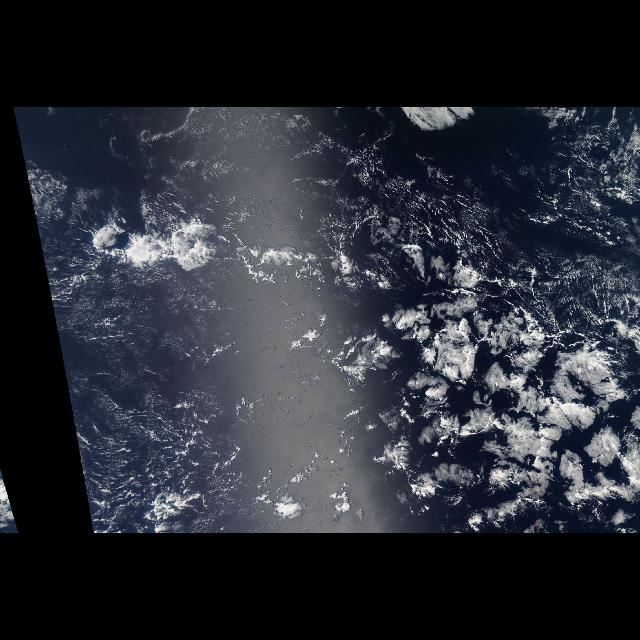Flower: (312, 225, 638, 528)
Sugar: (22, 114, 636, 518)
